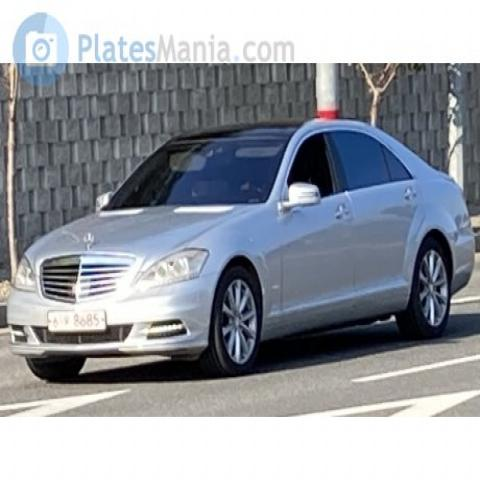LP: (41, 304, 117, 343)
